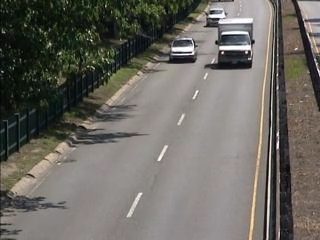car: (165, 34, 199, 65), (204, 7, 229, 29)
truck: (218, 18, 256, 70)
